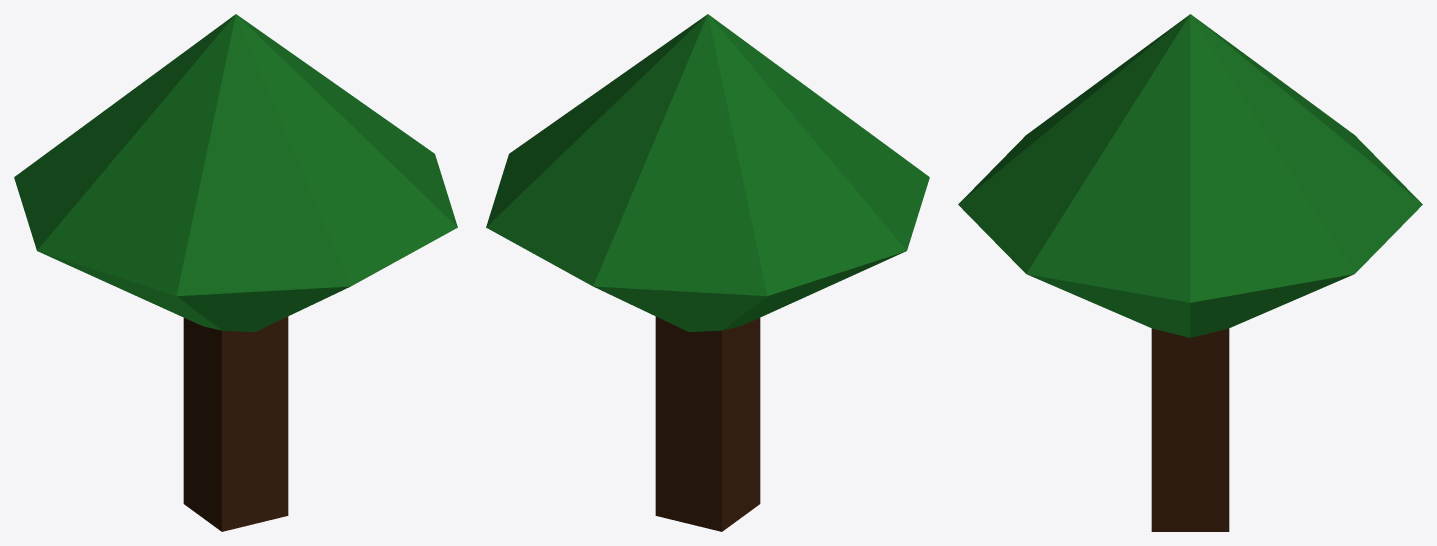
The model's file is tree.obj.
The picture shows the model from 3 angles, left to right: view 1: azimuth 30°, elevation 25°; view 2: azimuth 150°, elevation 25°; view 3: azimuth 270°, elevation 25°; orthographic projection.
Parts seen in each view (by area): view 1: unit_tree; view 2: unit_tree; view 3: unit_tree.
Boxes of the visible parts, x1,y1,x2,y2 form: unit_tree: (14, 14, 457, 531); unit_tree: (486, 14, 929, 531); unit_tree: (958, 14, 1422, 531).
Bounding box in the file's own units: 0.84 × 1 × 0.84.
